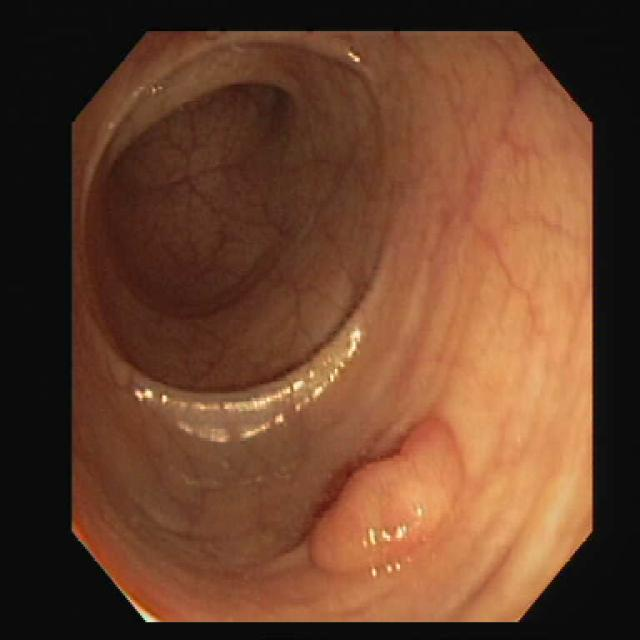tumor: (310, 420, 460, 569)
